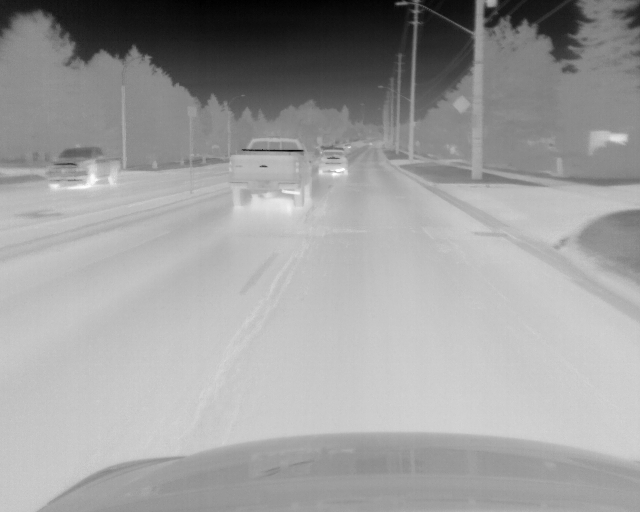car: (229, 136, 312, 216), (45, 146, 122, 189), (317, 148, 348, 179)
